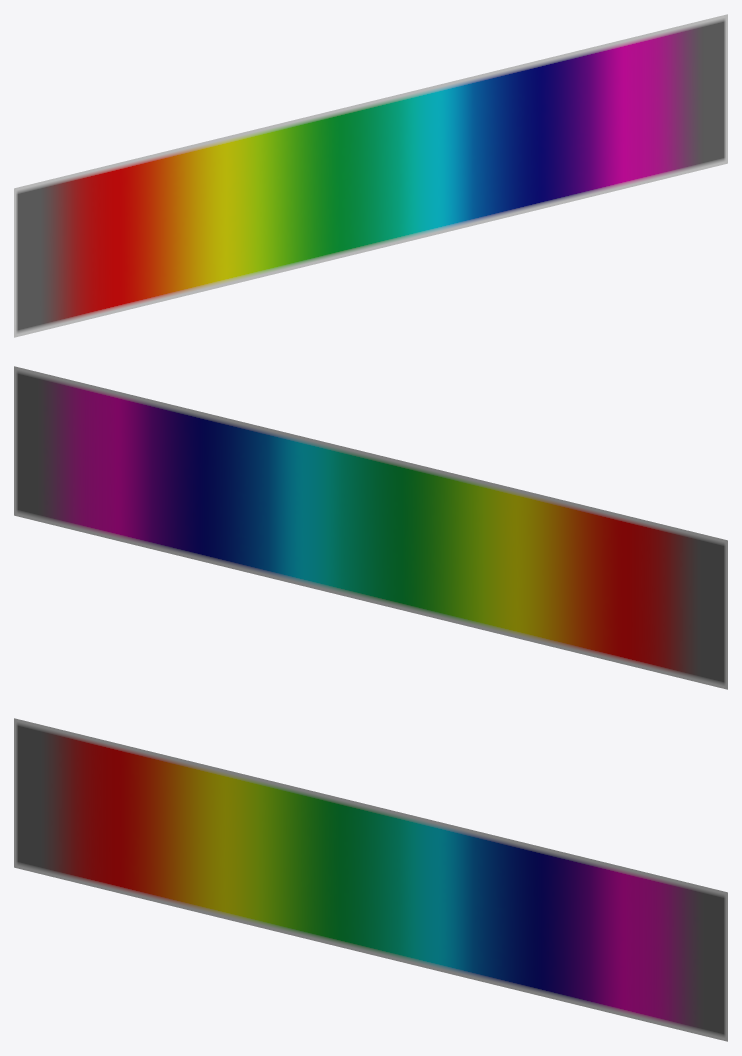
Rendered from auroraStrip.FBX.
3 renders of one model, top to bottom at view 1: azimuth 30°, elevation 25°; view 2: azimuth 150°, elevation 25°; view 3: azimuth 330°, elevation 25°, orthographic.
Visible parts, largest first — view 1: Plane001; view 2: Plane001; view 3: Plane001.
Part boxes in pixels (x1,y1,x2,y2): Plane001: (14, 14, 727, 337); Plane001: (14, 366, 727, 689); Plane001: (14, 718, 727, 1041).
Size of the model in its own units: 100 by 20 by 3.26e-06.
